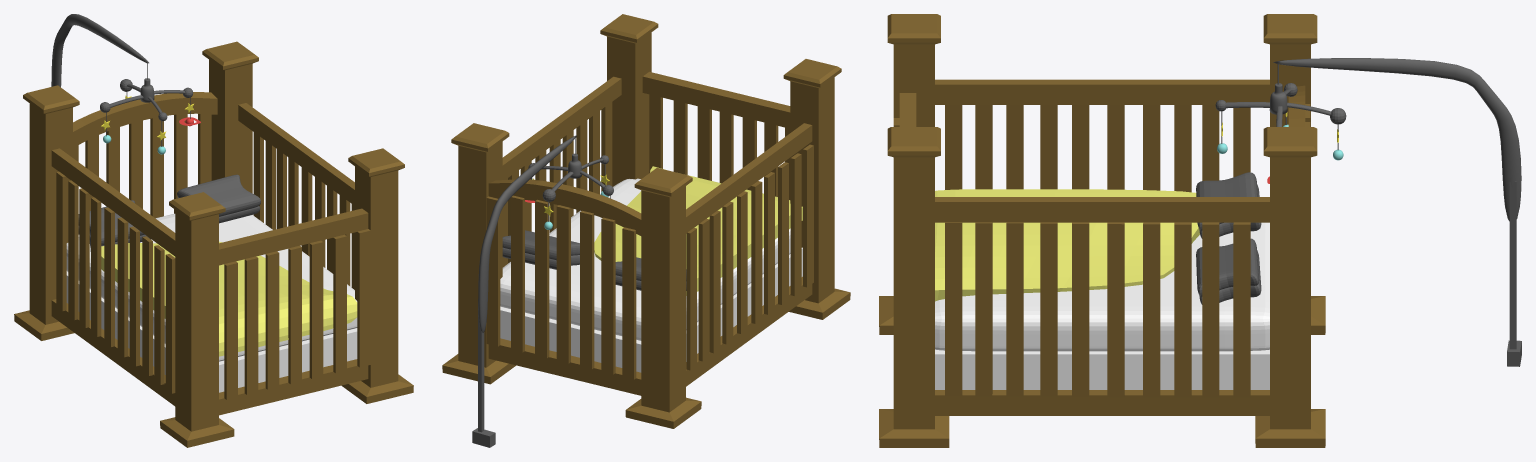
File: babys_crib.glb
The picture shows the model from 3 angles, left to right: view 1: azimuth 30°, elevation 25°; view 2: azimuth 150°, elevation 25°; view 3: azimuth 270°, elevation 25°; orthographic projection. The views are drawn at different scales.
Parts seen in each view (by area): view 1: Cube.005_7, Cube.004_6, Cube.002_4, Cube.006_8, Cube.001_3, Cube.003_5, Cube_0, Cube.009_11, Cube.008_10, Cube.007_9, Cube.011_13, Cylinder_14 (+1 smaller); view 2: Cube.005_7, Cube.004_6, Cube.001_3, Cube.006_8, Cube.002_4, Cube_0, Cube.008_10, Cube.003_5, Cube.009_11, Cube.007_9, Cylinder_14, Cube.012_20 (+2 smaller); view 3: Cube.005_7, Cube.003_5, Cube.006_8, Cube.004_6, Cube.008_10, Cube.009_11, Cube_0, Cube.007_9, Cylinder_14, Cube.011_13, Cube.012_20, Cube.010_12.
Boxes of the visible parts, x1,y1,x2,y2 form: Cube.005_7: (14,41,413,447); Cube.004_6: (56,171,175,393); Cube.002_4: (224,229,370,399); Cube.006_8: (51,92,368,265); Cube.001_3: (73,114,211,218); Cube.003_5: (253,132,354,289); Cube_0: (51,299,368,415); Cube.009_11: (101,241,357,356); Cube.008_10: (66,213,357,361); Cube.007_9: (66,271,357,392); Cube.011_13: (177,174,260,223); Cylinder_14: (51,14,148,87); Cube.005_7: (442,14,850,428); Cube.004_6: (686,144,813,370); Cube.001_3: (486,195,636,379); Cube.006_8: (488,71,812,235); Cube.002_4: (649,94,790,199); Cube_0: (488,276,812,395); Cube.008_10: (500,178,790,340); Cube.003_5: (502,102,612,267); Cube.009_11: (594,166,802,295); Cube.007_9: (500,247,802,372); Cylinder_14: (478,135,576,332); Cube.012_20: (472,299,495,447); Cube.005_7: (879,14,1325,447); Cube.003_5: (945,222,1250,397); Cube.006_8: (899,79,1305,222); Cube.004_6: (945,105,1250,192); Cube.008_10: (935,222,1269,351); Cube.009_11: (935,189,1199,301); Cube_0: (935,390,1269,415); Cube.007_9: (935,349,1269,389); Cylinder_14: (1273,58,1521,221); Cube.011_13: (1196,238,1261,304); Cube.012_20: (1507,181,1521,366); Cube.010_12: (1196,172,1261,238).
Bounding box in the file's own units: 2.33 × 2.43 × 4.44.
